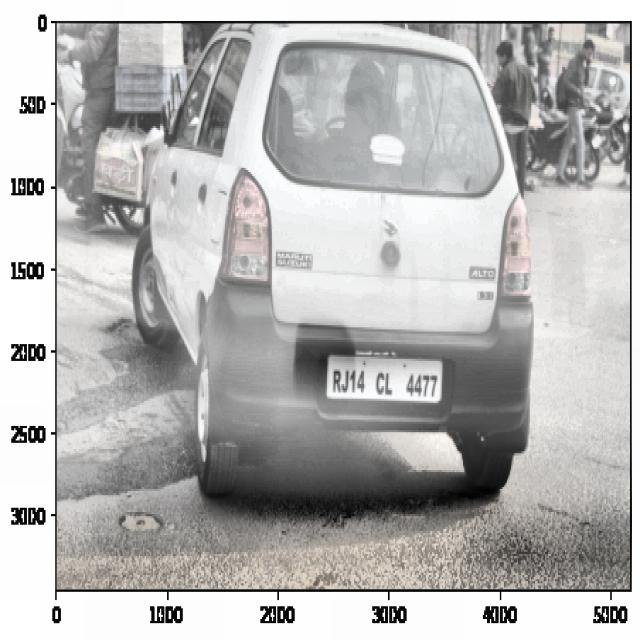license_plate: (327, 360, 446, 409)
